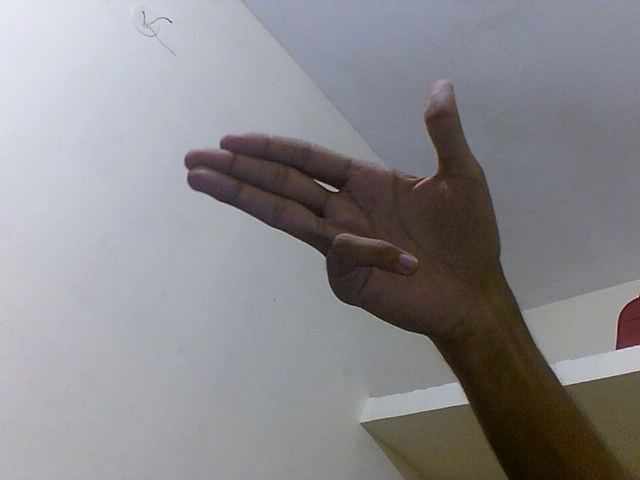hand: (182, 71, 517, 344)
